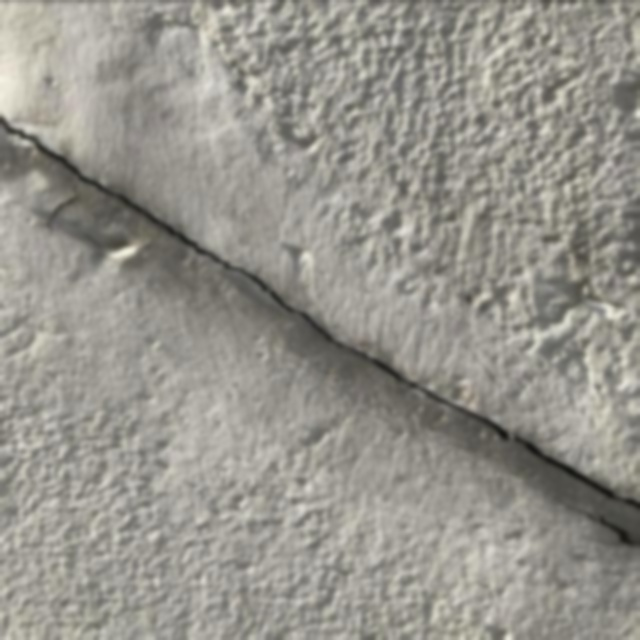SurfaceCrack: (1, 69, 640, 585)
